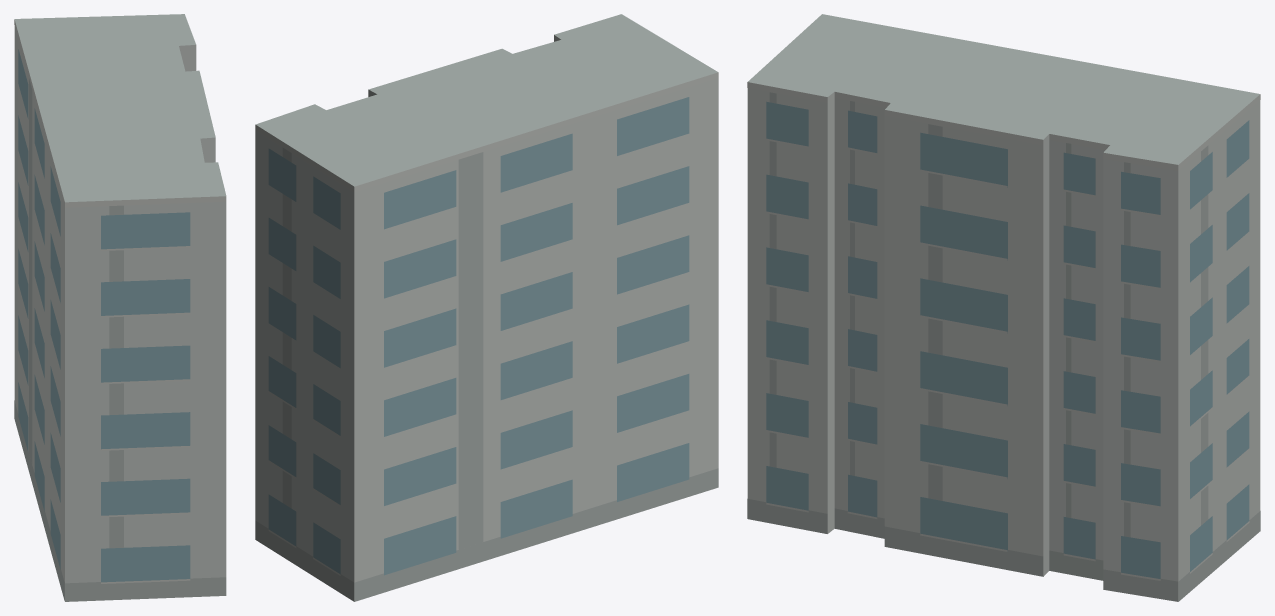
File: survey-upis-32813754.glb
3 views of the same model, side by side, from view 1: azimuth 30°, elevation 25°; view 2: azimuth 150°, elevation 25°; view 3: azimuth 270°, elevation 25° (orthographic). The views are drawn at different scales.
Parts seen in each view (by area): view 1: survey-upis-32813754.tmp; view 2: survey-upis-32813754.tmp; view 3: survey-upis-32813754.tmp.
Boxes of the visible parts, box(x1,y1,x2,y2) form: survey-upis-32813754.tmp: box(14, 14, 226, 601); survey-upis-32813754.tmp: box(255, 14, 718, 601); survey-upis-32813754.tmp: box(747, 14, 1260, 601).
Bounding box in the file's own units: 13.12 × 17.7 × 18.84.
